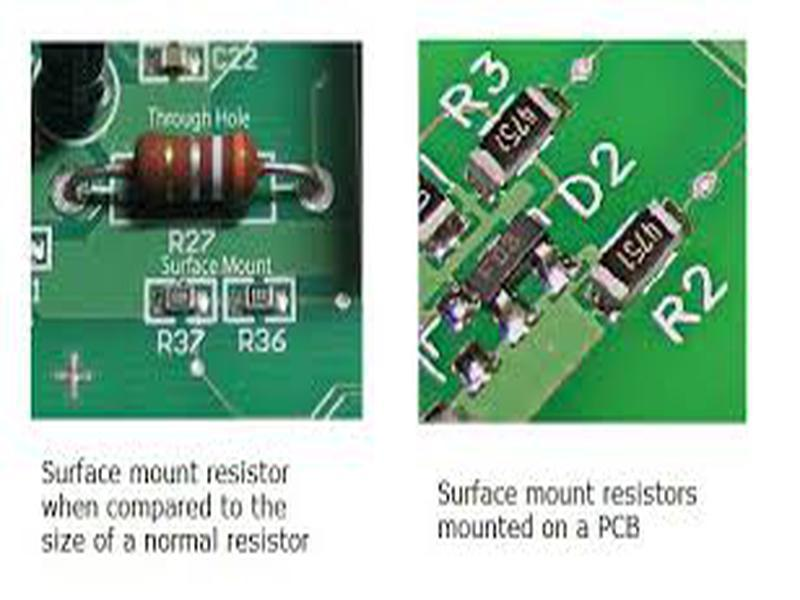SMD resistor: (472, 82, 560, 190), (598, 206, 679, 300), (145, 279, 214, 324), (227, 280, 292, 323)
resistor: (134, 130, 265, 216)
